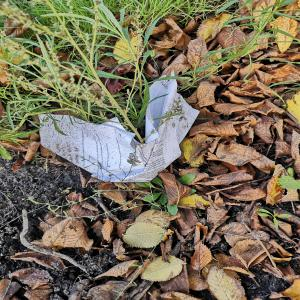Trash: (39, 71, 204, 186)
